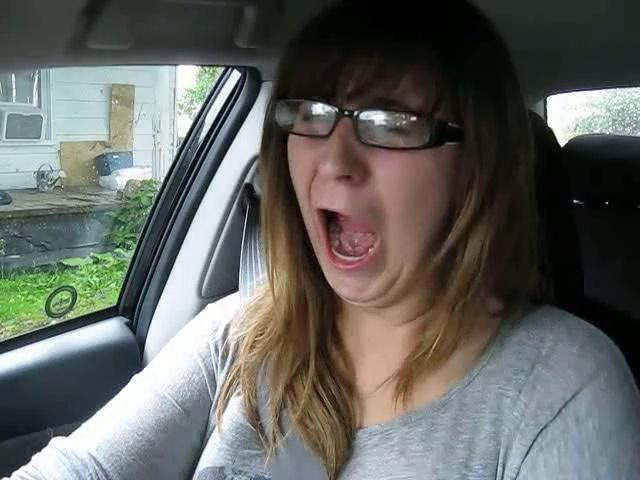close_eyeL: (282, 93, 350, 143)
close_eyeR: (350, 101, 431, 152)
yawn: (299, 202, 394, 274)
